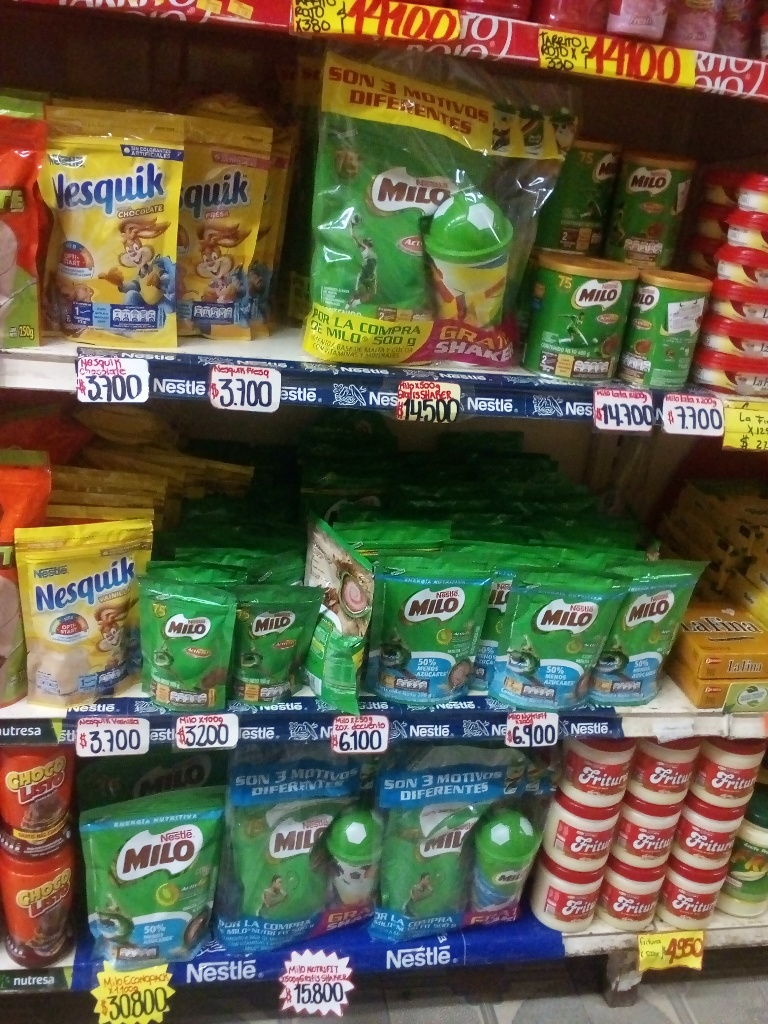COL0170102DYP25000: (0, 95, 44, 356)
COL0170103TRR30000: (4, 858, 73, 971)
COL0170203DYP10000: (141, 572, 228, 714)
COL0170203DYP50000: (303, 46, 482, 375)
COL0170203LAT20000: (628, 263, 694, 389)
COL0170203LAT40000: (525, 227, 637, 391)
COL0170205DYP20000: (368, 541, 487, 704)
COL0170205DYP50000: (349, 768, 485, 949)
COL0170303DYP20000: (31, 100, 177, 353)
COL0170305DYP20000: (175, 111, 295, 358)
COL0170306DYP20000: (3, 514, 157, 717)
